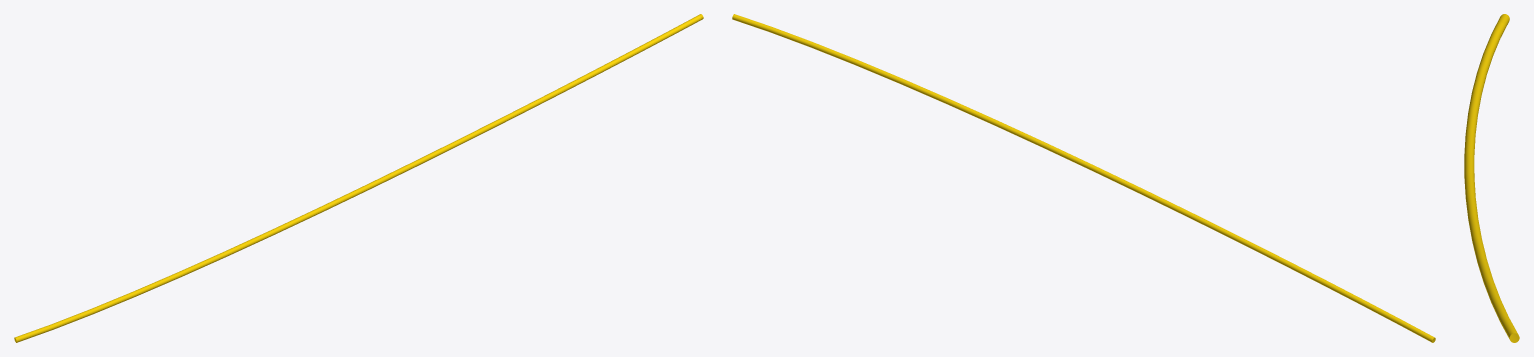
The model's file is Event_420604493_track_20.fbx.
The picture shows the model from 3 angles, left to right: view 1: azimuth 30°, elevation 25°; view 2: azimuth 150°, elevation 25°; view 3: azimuth 270°, elevation 25°; orthographic projection. The views are drawn at different scales.
Visible parts, largest first — view 1: Model; view 2: Model; view 3: Model.
Boxes of the visible parts, x1=… form: Model: x1=14, y1=14, x2=703, y2=342; Model: x1=732, y1=14, x2=1435, y2=342; Model: x1=1464, y1=14, x2=1519, y2=342.
Size of the model in its own units: 5.51 by 1.21 by 0.219.
